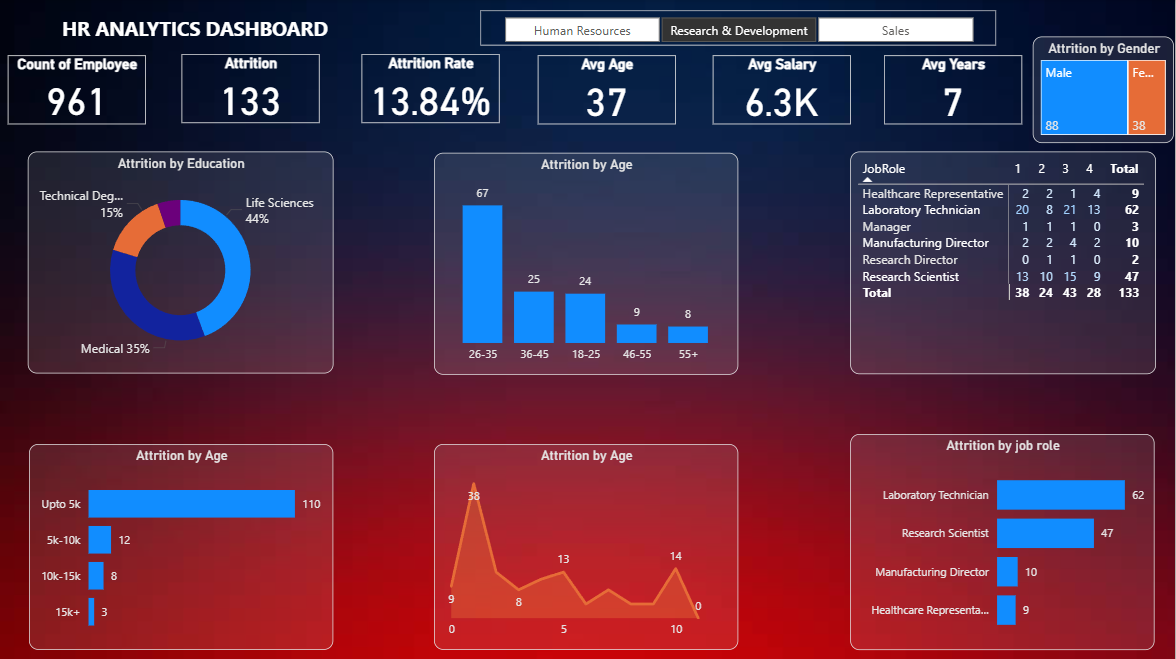

The dashboard page shown, as its layout file describes it:
{"tool":"powerbi","page":{"name":"Page 1","canvas":[1280,720],"ordinal":0},"visuals":[{"type":"card","title":"Attrition","fields":{"Values":["Sum(HR_Analytics (2).AttritionCount)"]},"box":[198.8,60,150,75],"z":0},{"type":"card","title":"     Attrition Rate","fields":{"Values":["HR_Analytics (2).AttritionRate"]},"box":[395,60,150,75],"z":1000},{"type":"card","title":"Avg Age","fields":{"Values":["Avg(HR_Analytics (2).Age)"]},"box":[586.2,61.2,150,75],"z":2000},{"type":"card","title":"Avg Salary","fields":{"Values":["Avg(HR_Analytics (2).MonthlyIncome)"]},"box":[776.2,61.2,150,75],"z":3000},{"type":"card","title":"Avg Years","fields":{"Values":["Avg(HR_Analytics (2).YearsAtCompany)"]},"box":[963.8,61.2,150,75],"z":4000},{"type":"card","title":"Count of Employee","fields":{"Values":["CountNonNull(HR_Analytics (2).EmployeeCount)"]},"box":[10,61.2,150,75],"z":5000},{"type":"donutChart","title":"Attrition by Education","fields":{"Category":["HR_Analytics (2).EducationField"],"Y":["Sum(HR_Analytics (2).AttritionCount)"]},"box":[31.2,166.2,332.5,241.2],"z":6000},{"type":"columnChart","title":"Attrition by Age","fields":{"Category":["HR_Analytics (2).AgeGroup"],"Y":["Sum(HR_Analytics (2).AttritionCount)"]},"box":[473.8,167.5,331.2,241.2],"z":7000},{"type":"pivotTable","fields":{"Rows":["HR_Analytics (2).JobRole"],"Columns":["HR_Analytics (2).JobSatisfaction"],"Values":["Sum(HR_Analytics (2).AttritionCount)"]},"box":[926.2,166.2,332.5,242.5],"z":8000},{"type":"barChart","title":"Attrition by Age","fields":{"Category":["HR_Analytics (2).SalarySlab"],"Y":["Sum(HR_Analytics (2).AttritionCount)"]},"box":[32.5,485,331.2,223.8],"z":9000},{"type":"barChart","title":"Attrition by job role","fields":{"Y":["Sum(HR_Analytics (2).AttritionCount)"],"Category":["HR_Analytics (2).JobRole"]},"box":[926.2,473.8,331.2,235],"z":10000},{"type":"areaChart","title":"Attrition by Age","fields":{"Category":["HR_Analytics (2).YearsAtCompany"],"Y":["Sum(HR_Analytics (2).AttritionCount)"]},"box":[473.8,485,331.2,223.8],"z":11000},{"type":"treemap","title":"Attrition by Gender","fields":{"Group":["HR_Analytics (2).Gender"],"Values":["Sum(HR_Analytics (2).AttritionCount)"]},"box":[1125,41.2,153.8,116.2],"z":12000},{"type":"slicer","fields":{"Values":["HR_Analytics (2).Department"]},"box":[523.8,12.5,561.2,38.8],"z":13000},{"type":"textbox","box":[31.2,12.5,363.8,45],"z":14000}]}

Visuals, with their boxes in screenshot pixels (x1, y1, x2, y2), scaled from the page's 1280x720 canvas onto the 1176x659 screenshot:
"Attrition" card: bbox(183, 55, 320, 124)
"     Attrition Rate" card: bbox(363, 55, 501, 124)
"Avg Age" card: bbox(539, 56, 676, 125)
"Avg Salary" card: bbox(713, 56, 851, 125)
"Avg Years" card: bbox(885, 56, 1023, 125)
"Count of Employee" card: bbox(9, 56, 147, 125)
"Attrition by Education" donutChart: bbox(29, 152, 334, 373)
"Attrition by Age" columnChart: bbox(435, 153, 740, 374)
pivotTable - HR_Analytics (2).JobRole x HR_Analytics (2).JobSatisfaction: bbox(851, 152, 1156, 374)
"Attrition by Age" barChart: bbox(30, 444, 334, 649)
"Attrition by job role" barChart: bbox(851, 434, 1155, 649)
"Attrition by Age" areaChart: bbox(435, 444, 740, 649)
"Attrition by Gender" treemap: bbox(1034, 38, 1175, 144)
slicer - HR_Analytics (2).Department: bbox(481, 11, 997, 47)
textbox: bbox(29, 11, 363, 53)
